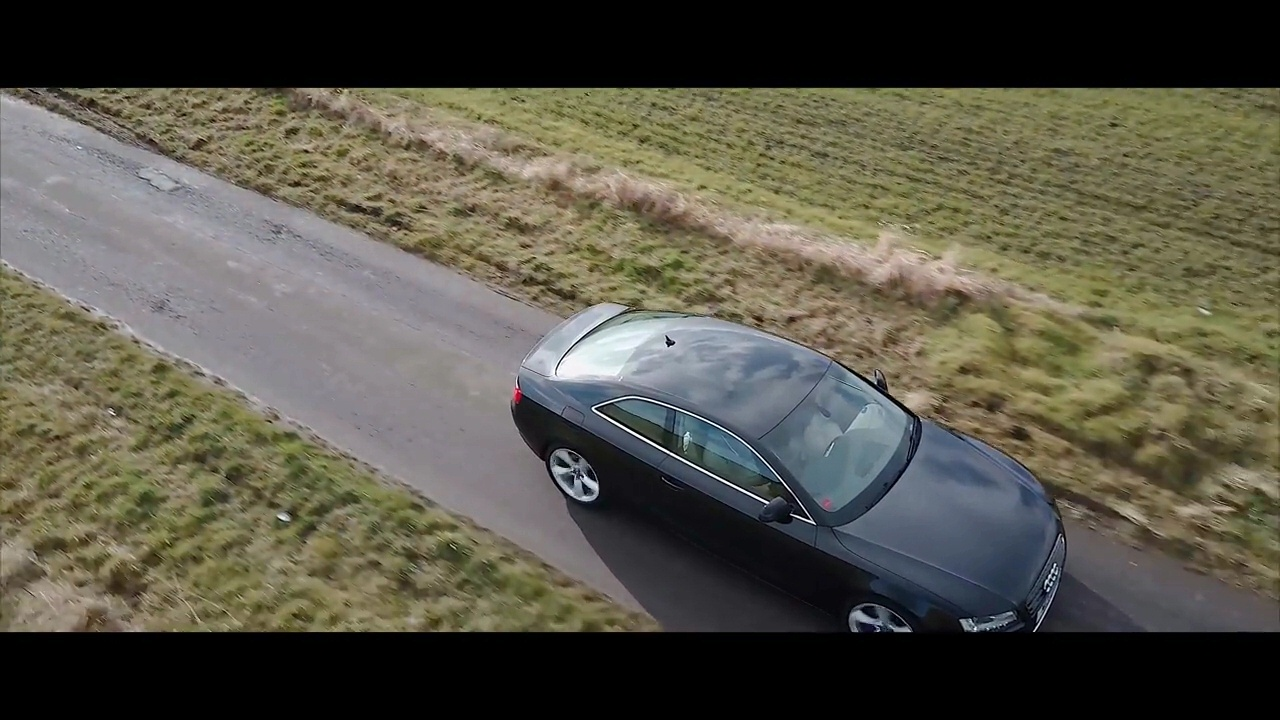araba: (502, 290, 1071, 632)
